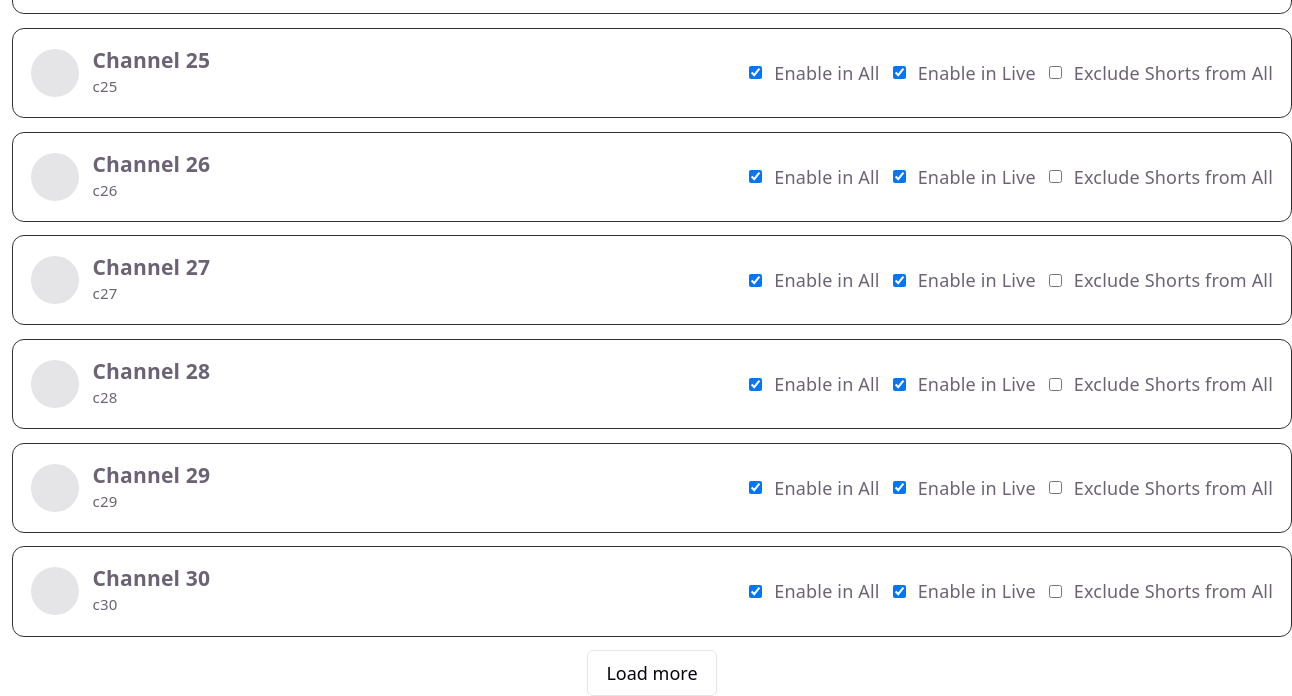
Test case: ChannelsSettingsPage › reveals more channels when Load more is clicked
The image size is (1292, 696).
(page scrolled)
Click the button "Load more" at (652, 673), box [587,650,716,695]
(page scrolled)
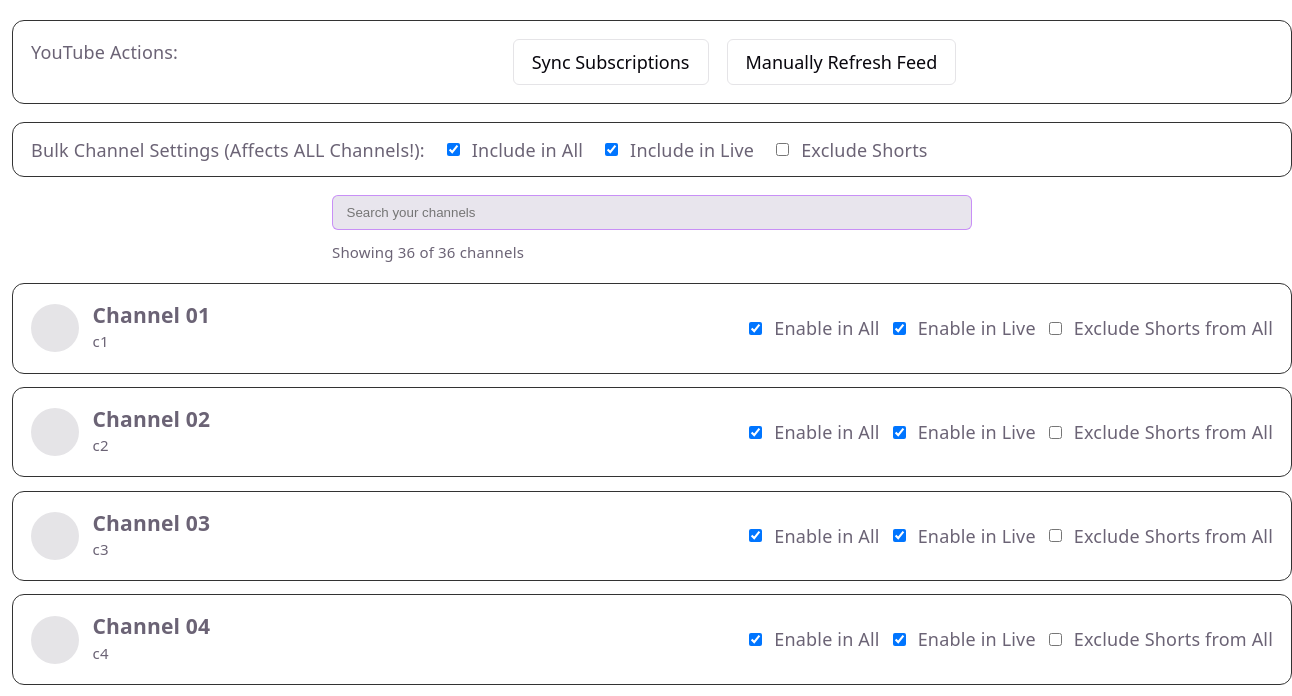
Check: the text "Showing 36 of 36 channels" is shown, box [332,242,524,262]
Check: the button "Load more" is gone
